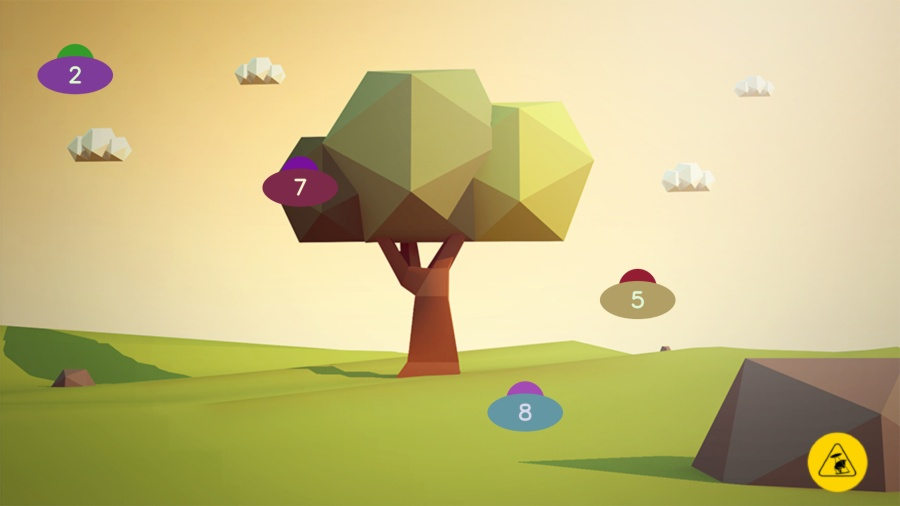ufo: (599, 268, 676, 320), (37, 44, 114, 95), (487, 381, 563, 432), (261, 156, 337, 206)
